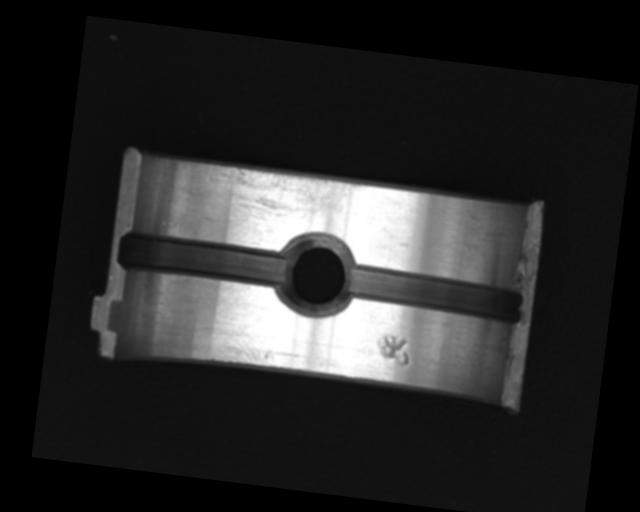bruise: (373, 332, 413, 367)
gap: (341, 262, 527, 329), (116, 230, 291, 290)
hole: (273, 228, 360, 322)
scratch: (200, 162, 369, 231)
